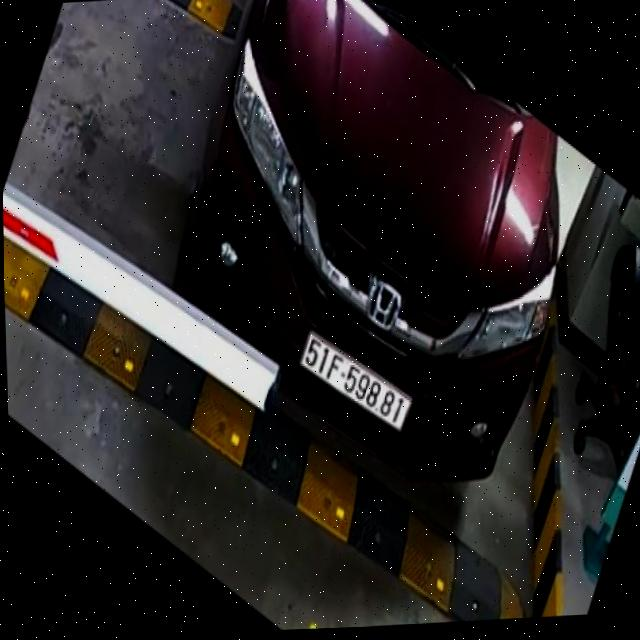car: (163, 0, 586, 511)
plate: (293, 319, 418, 443)
